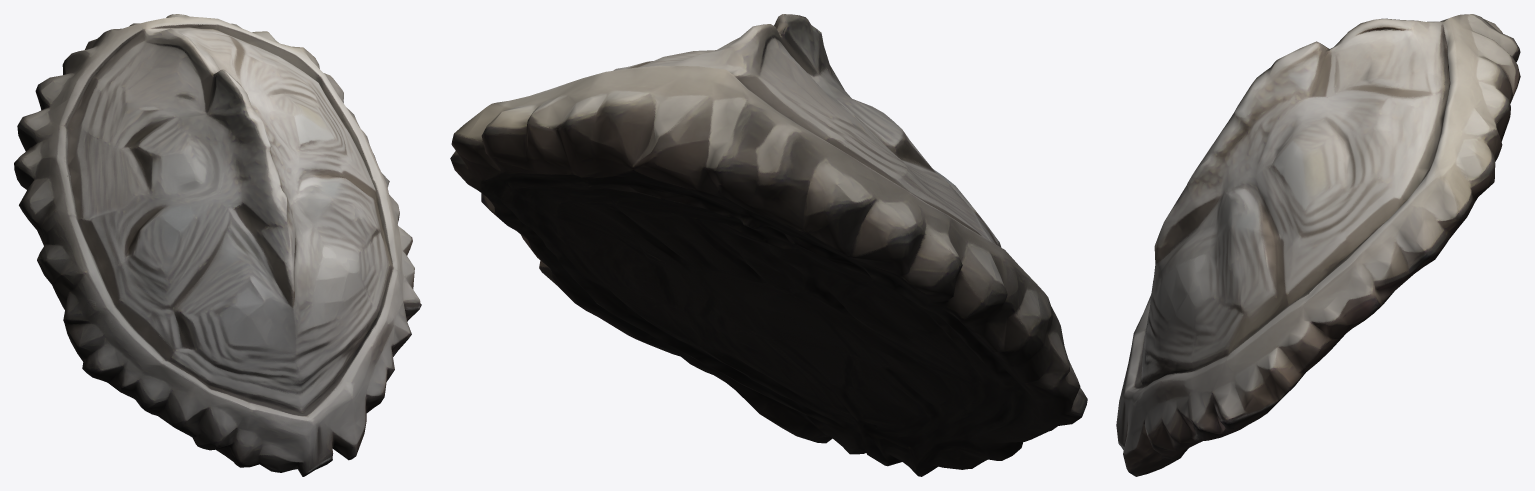
Rendered from armor_plate.glb.
The picture shows the model from 3 angles, left to right: view 1: azimuth 30°, elevation 25°; view 2: azimuth 150°, elevation 25°; view 3: azimuth 270°, elevation 25°; orthographic projection. The views are drawn at different scales.
Visible parts, largest first — view 1: world; view 2: world; view 3: world.
Boxes of the visible parts, x1=… form: world: x1=14, y1=14, x2=421, y2=476; world: x1=450, y1=14, x2=1087, y2=476; world: x1=1116, y1=14, x2=1520, y2=476.
Size of the model in its own units: 0.9929 by 0.9981 by 0.8601.
1 material, 1 textured.
